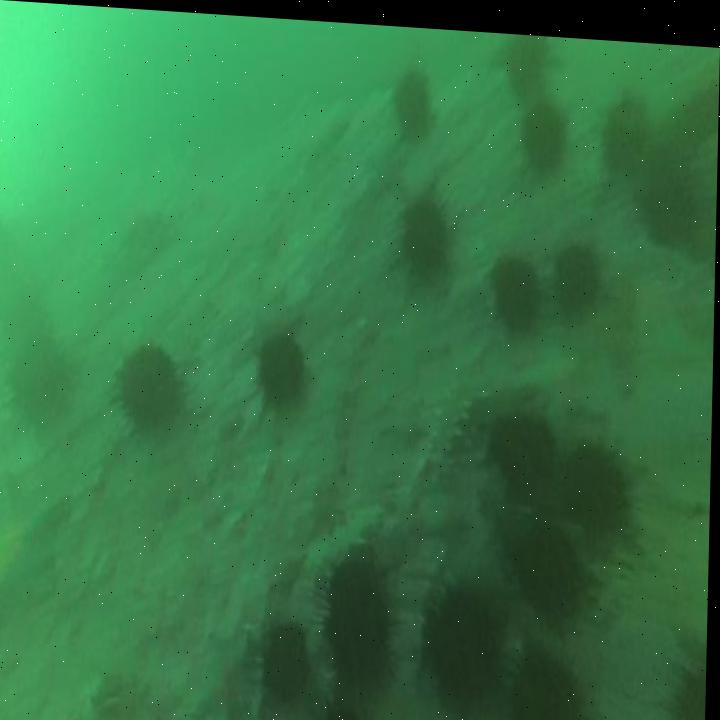echinus: (426, 583, 504, 704), (329, 557, 397, 670), (518, 518, 589, 608), (564, 432, 631, 526), (118, 341, 185, 432), (639, 128, 693, 232), (511, 648, 585, 720), (9, 333, 69, 418), (490, 406, 552, 486), (400, 194, 452, 278), (264, 620, 314, 696), (492, 248, 542, 324), (258, 327, 307, 402), (602, 85, 647, 165), (554, 230, 598, 302), (524, 88, 567, 161), (506, 27, 550, 93), (393, 67, 431, 129), (320, 699, 369, 720)
holothurian: (410, 360, 484, 488), (307, 495, 384, 577)
